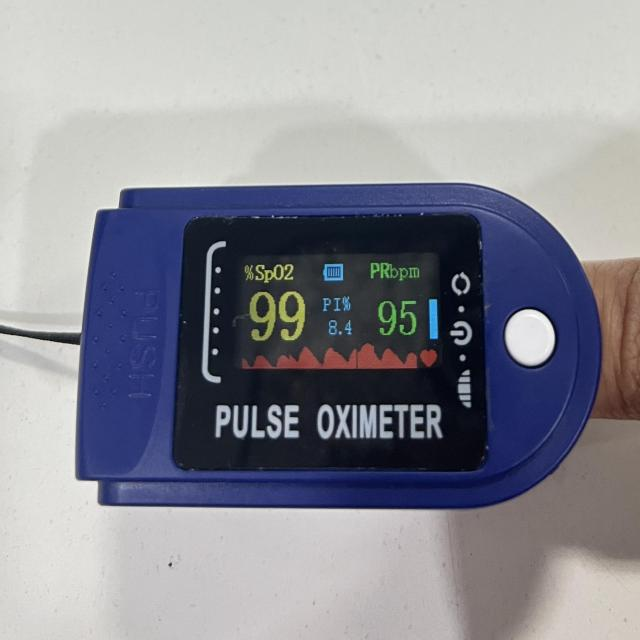spo2: (74, 183, 603, 512)
